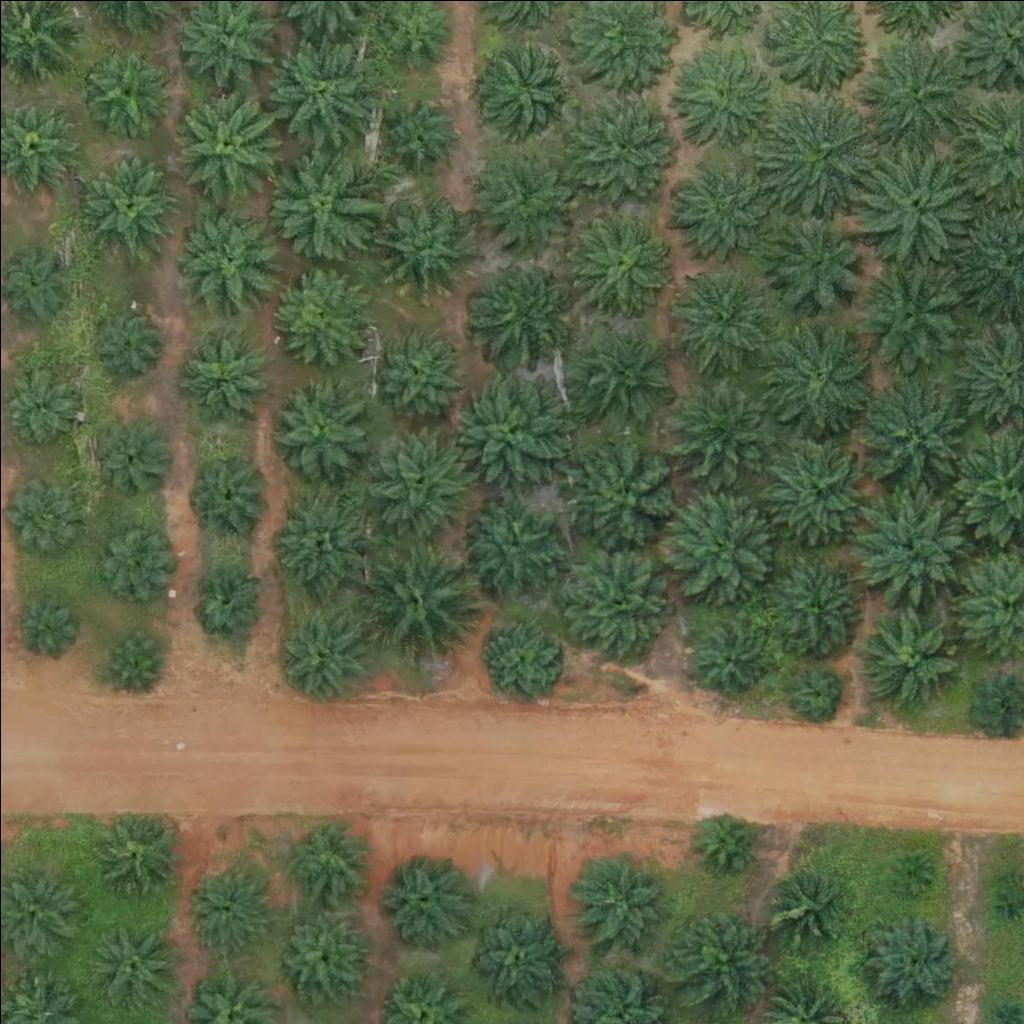Kelapa_Sawit: (857, 375, 982, 501), (847, 144, 972, 270), (752, 313, 877, 439), (757, 88, 882, 214), (552, 540, 677, 666), (564, 429, 689, 555), (559, 82, 684, 208), (444, 365, 569, 491), (353, 539, 478, 665), (357, 416, 482, 542), (255, 140, 380, 266), (255, 27, 380, 153), (163, 80, 288, 206), (851, 30, 976, 156), (756, 422, 881, 547), (855, 488, 968, 601), (854, 256, 967, 369), (759, 200, 872, 313), (660, 146, 773, 259), (672, 38, 785, 151), (856, 903, 968, 1016), (667, 485, 779, 598), (666, 373, 778, 486), (667, 906, 767, 1007), (568, 851, 668, 952), (857, 606, 957, 707), (768, 552, 868, 653), (569, 318, 669, 419), (568, 217, 668, 318), (461, 262, 561, 363), (473, 157, 573, 258), (370, 194, 470, 295), (477, 40, 577, 141), (462, 903, 562, 1003), (370, 852, 470, 952), (268, 906, 368, 1006), (463, 494, 563, 594), (273, 602, 373, 702), (269, 486, 369, 586), (269, 379, 369, 479), (267, 262, 367, 362), (176, 206, 276, 306), (82, 155, 182, 255), (181, 862, 269, 950), (85, 922, 173, 1010), (88, 812, 176, 900), (678, 275, 766, 363), (179, 328, 267, 416), (81, 43, 169, 131), (185, 449, 272, 537), (281, 815, 368, 903), (374, 324, 461, 412), (3, 370, 78, 446), (93, 422, 168, 498), (88, 303, 163, 379), (481, 621, 556, 697), (193, 561, 268, 637), (95, 520, 170, 595), (2, 478, 77, 553), (762, 868, 837, 943), (690, 619, 765, 694), (384, 94, 459, 169), (695, 807, 758, 870), (103, 626, 165, 689), (13, 593, 75, 656), (790, 665, 840, 715), (890, 856, 928, 894)
